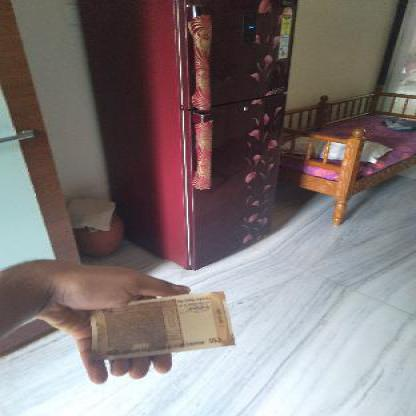New10Back: (85, 294, 235, 358)
